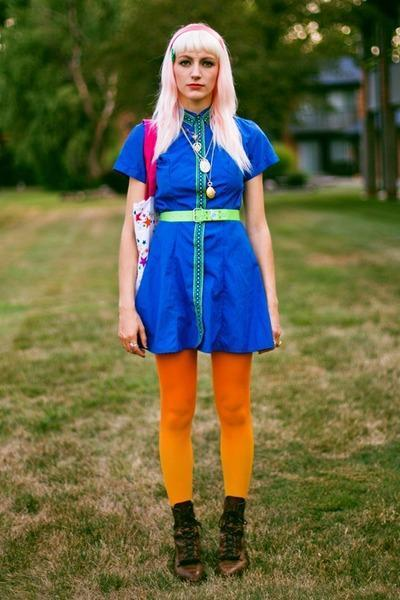bag: (121, 121, 156, 352)
dress: (114, 110, 279, 353)
shoe: (159, 496, 255, 586)
